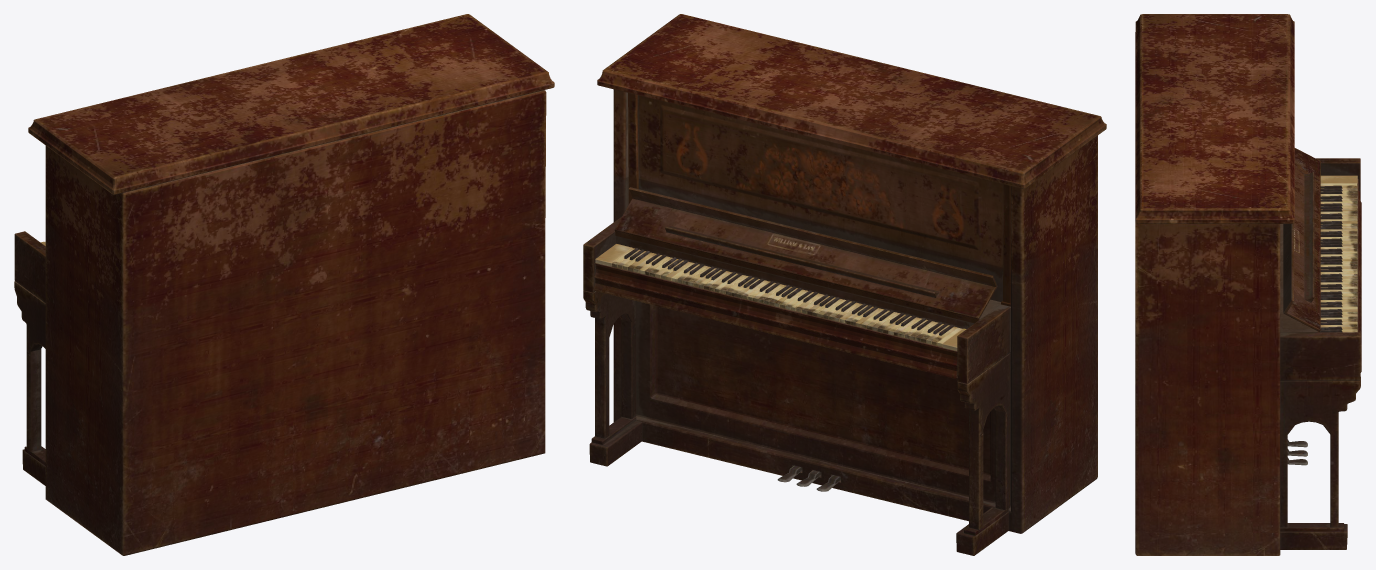
The model's file is Haunted Piano.fbx.
3 renders of one model, left to right at view 1: azimuth 30°, elevation 25°; view 2: azimuth 150°, elevation 25°; view 3: azimuth 270°, elevation 25°, orthographic. The views are drawn at different scales.
Visible parts, largest first — view 1: XI_AR_Haunted_Piano.Shape; view 2: XI_AR_Haunted_Piano.Shape; view 3: XI_AR_Haunted_Piano.Shape.
Boxes of the visible parts, left/top/right/bottom form: XI_AR_Haunted_Piano.Shape: left=14, top=14, right=554, bottom=555; XI_AR_Haunted_Piano.Shape: left=583, top=14, right=1106, bottom=555; XI_AR_Haunted_Piano.Shape: left=1135, top=14, right=1361, bottom=555.
Bounding box in the file's own units: 163 × 134 × 78.53.
1 material, 1 textured.
